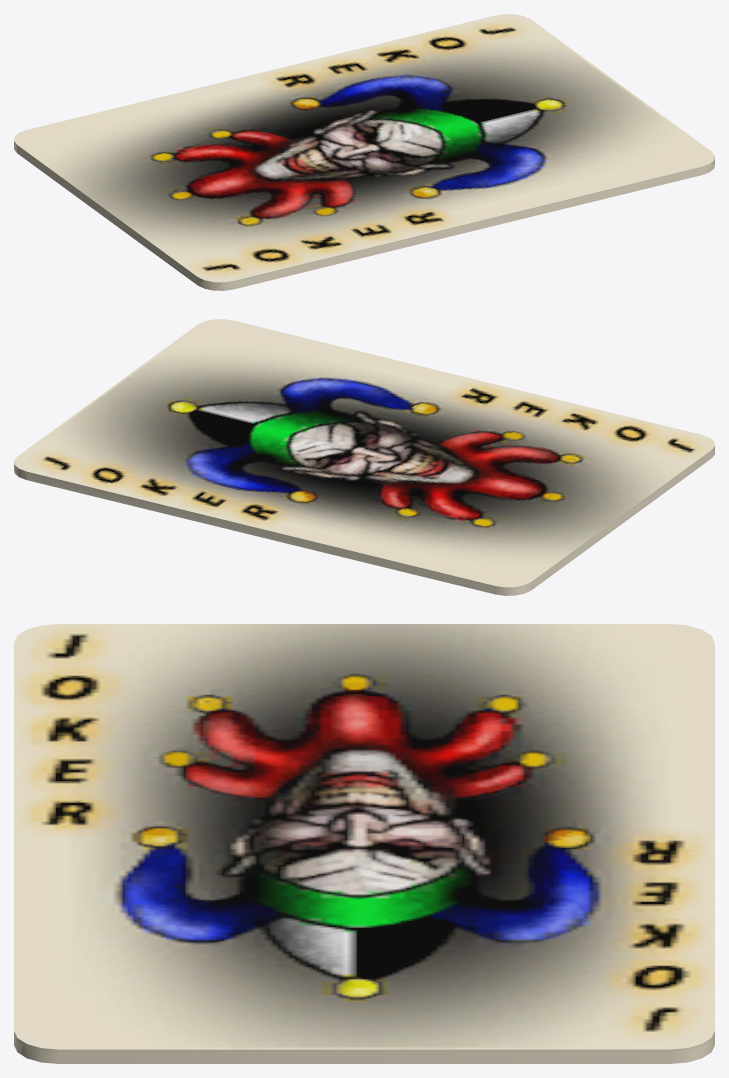
The model's file is playing card.obj.
The picture shows the model from 3 angles, top to bottom: view 1: azimuth 30°, elevation 25°; view 2: azimuth 150°, elevation 25°; view 3: azimuth 270°, elevation 25°; orthographic projection. The views are drawn at different scales.
Parts seen in each view (by area): view 1: Joker_PlayingCard_smesh; view 2: Joker_PlayingCard_smesh; view 3: Joker_PlayingCard_smesh.
Part boxes in pixels (x1,y1,x2,y2): Joker_PlayingCard_smesh: (14,14,714,290); Joker_PlayingCard_smesh: (14,319,714,595); Joker_PlayingCard_smesh: (14,624,714,1063).
Size of the model in its own units: 4.21 by 0.0664 by 2.93.
